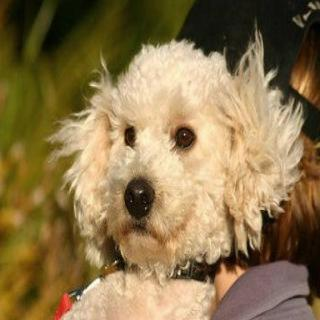dog: (64, 52, 293, 262)
nose: (119, 181, 154, 222)
